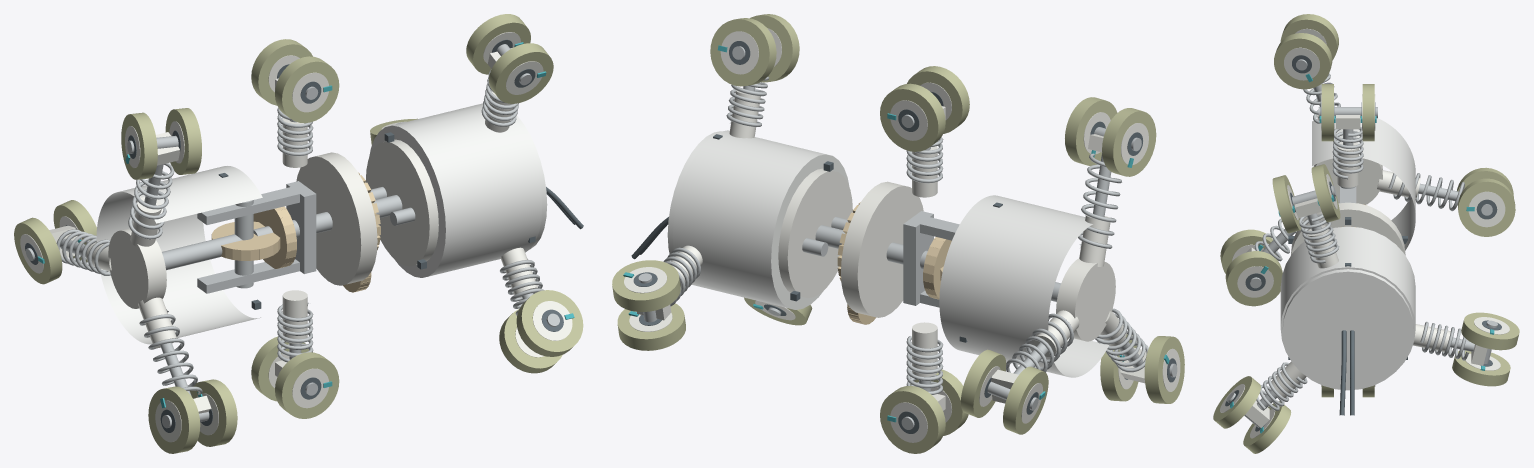
File: pipeline-robot.glb
The picture shows the model from 3 angles, left to right: view 1: azimuth 30°, elevation 25°; view 2: azimuth 150°, elevation 25°; view 3: azimuth 270°, elevation 25°; orthographic projection. The views are drawn at different scales.
Visible parts, largest first — view 1: 弹性轮胎 (×14), 后驱动单元外壳, 前端U形转向开口, 压缩螺旋弹簧 (×7), 中间支承座, 电机支承板, 伸缩臂套筒 (×5), 轮毂 (×5), 前旋转盘, 转向连架杆 (×2), 转向轴支座, 前传动轴 (+5 smaller); view 2: 弹性轮胎 (×14), 前端U形转向开口, 后驱动单元外壳, 压缩螺旋弹簧 (×7), 中间支承座, 电机支承板, 伸缩臂套筒 (×5), 轮毂 (×5), 前旋转盘, 转向轴支座, 主传动轴, 后端盖 (+1 smaller); view 3: 弹性轮胎 (×14), 后端盖, 压缩螺旋弹簧 (×7), 后驱动单元外壳, 前端U形转向开口, 伸缩臂套筒 (×5), 轮毂 (×4), 中间支承座, 前旋转盘, 轮轴支架 (×3), 12V外接线缆示意 (×2), 弹性伸缩杆.
Boxes of the visible parts, x1=… form: 弹性轮胎 (×14): x1=14, y1=14, x2=583, y2=453; 后驱动单元外壳: x1=369, y1=103, x2=542, y2=277; 前端U形转向开口: x1=96, y1=166, x2=262, y2=344; 压缩螺旋弹簧 (×7): x1=56, y1=69, x2=544, y2=394; 中间支承座: x1=296, y1=152, x2=377, y2=285; 电机支承板: x1=366, y1=139, x2=438, y2=266; 伸缩臂套筒 (×5): x1=130, y1=118, x2=537, y2=348; 轮毂 (×5): x1=155, y1=61, x2=572, y2=442; 前旋转盘: x1=108, y1=228, x2=166, y2=308; 转向连架杆 (×2): x1=197, y1=185, x2=306, y2=293; 转向轴支座: x1=286, y1=181, x2=316, y2=273; 前传动轴: x1=162, y1=234, x2=242, y2=270; 弹性轮胎 (×14): x1=612, y1=14, x2=1184, y2=453; 前端U形转向开口: x1=939, y1=195, x2=1109, y2=377; 后驱动单元外壳: x1=672, y1=130, x2=849, y2=309; 压缩螺旋弹簧 (×7): x1=663, y1=76, x2=1148, y2=394; 中间支承座: x1=841, y1=181, x2=923, y2=317; 电机支承板: x1=778, y1=168, x2=852, y2=297; 伸缩臂套筒 (×5): x1=729, y1=90, x2=1110, y2=376; 轮毂 (×5): x1=624, y1=31, x2=1148, y2=442; 前旋转盘: x1=1056, y1=258, x2=1115, y2=341; 转向轴支座: x1=903, y1=211, x2=933, y2=305; 主传动轴: x1=815, y1=225, x2=927, y2=269; 后端盖: x1=667, y1=131, x2=720, y2=253; 弹性轮胎 (×14): x1=1213, y1=14, x2=1519, y2=453; 后端盖: x1=1282, y1=269, x2=1413, y2=390; 压缩螺旋弹簧 (×7): x1=1254, y1=73, x2=1468, y2=410; 后驱动单元外壳: x1=1280, y1=226, x2=1415, y2=371; 前端U形转向开口: x1=1312, y1=118, x2=1415, y2=250; 伸缩臂套筒 (×5): x1=1271, y1=142, x2=1450, y2=397; 轮毂 (×4): x1=1237, y1=47, x2=1509, y2=334; 中间支承座: x1=1291, y1=202, x2=1405, y2=255; 前旋转盘: x1=1313, y1=158, x2=1382, y2=204; 轮轴支架 (×3): x1=1245, y1=115, x2=1360, y2=427; 12V外接线缆示意 (×2): x1=1339, y1=330, x2=1354, y2=415; 弹性伸缩杆: x1=1418, y1=183, x2=1458, y2=200.
Bounding box in the file's own units: 0.2311 × 0.1661 × 0.1498.
